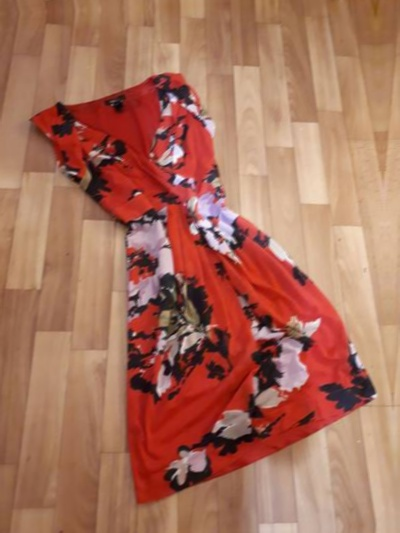Dress: (8, 47, 385, 508), (390, 30, 400, 491)
